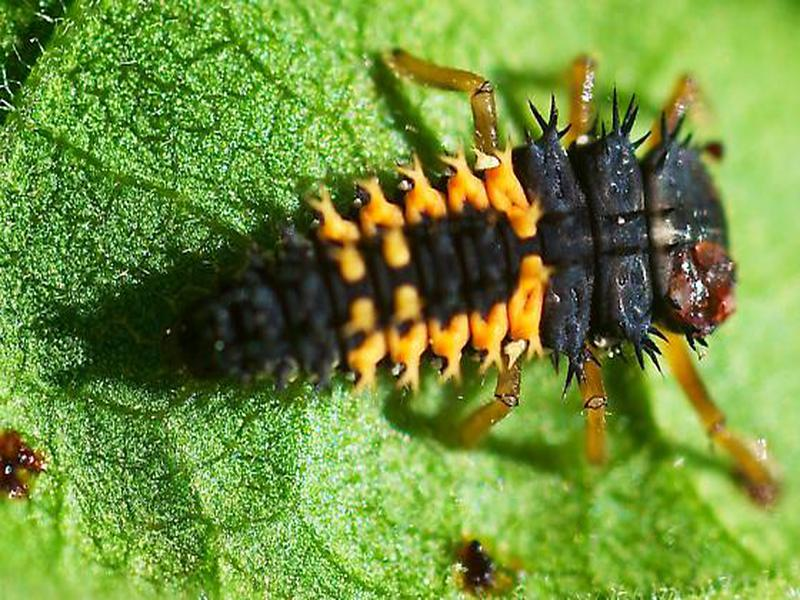Spiny_beetle: (83, 69, 744, 431)
